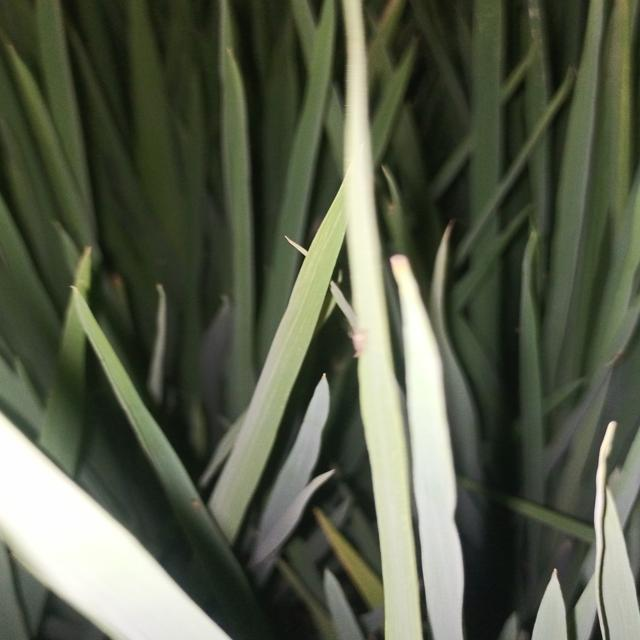healthy: (341, 313, 376, 361)
